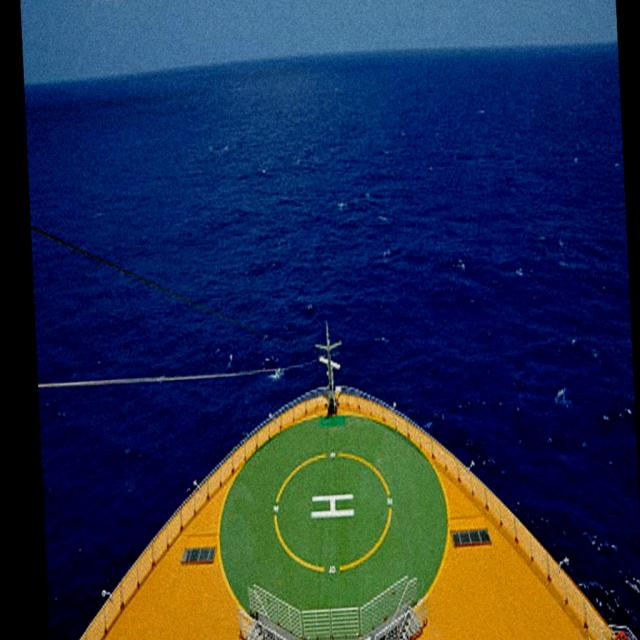helipad: (268, 448, 396, 574)
